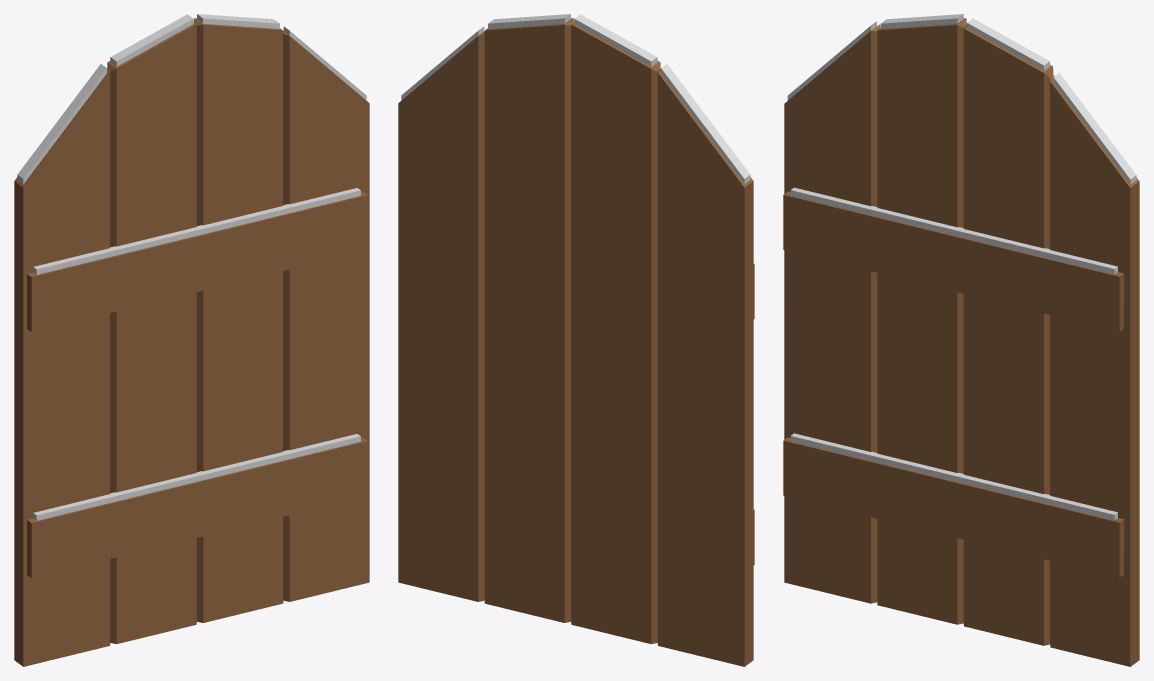
The model's file is Castle_gate_2_snow_mat.fbx.
3 views of the same model, side by side, from view 1: azimuth 30°, elevation 25°; view 2: azimuth 150°, elevation 25°; view 3: azimuth 330°, elevation 25° (orthographic).
Parts seen in each view (by area): view 1: Castle_gate_2_snow_mat; view 2: Castle_gate_2_snow_mat; view 3: Castle_gate_2_snow_mat.
Part boxes in pixels (x1,y1,x2,y2): Castle_gate_2_snow_mat: [14, 14, 369, 666]; Castle_gate_2_snow_mat: [398, 14, 754, 666]; Castle_gate_2_snow_mat: [783, 14, 1139, 666].
Size of the model in its own units: 1.25 by 2.09 by 0.0865.
